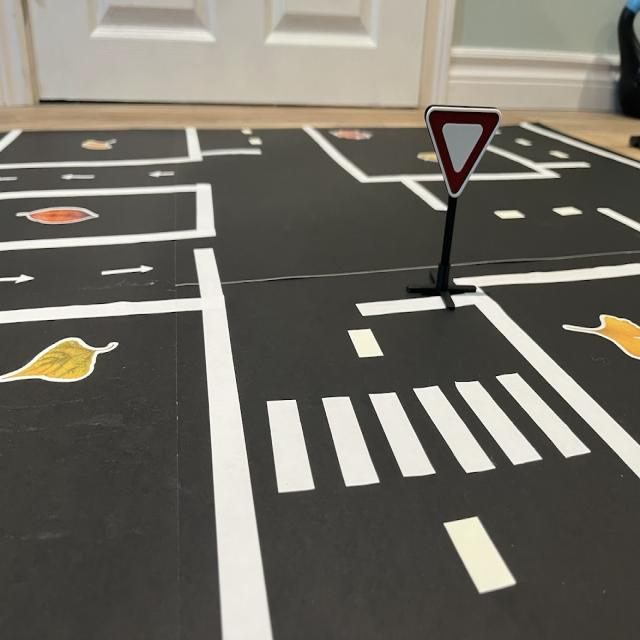road_crosswalk: (262, 358, 602, 506)
road_oneway: (97, 257, 158, 283), (1, 268, 40, 293), (145, 168, 184, 181), (60, 172, 101, 184)
sign_yield: (426, 106, 503, 198)
